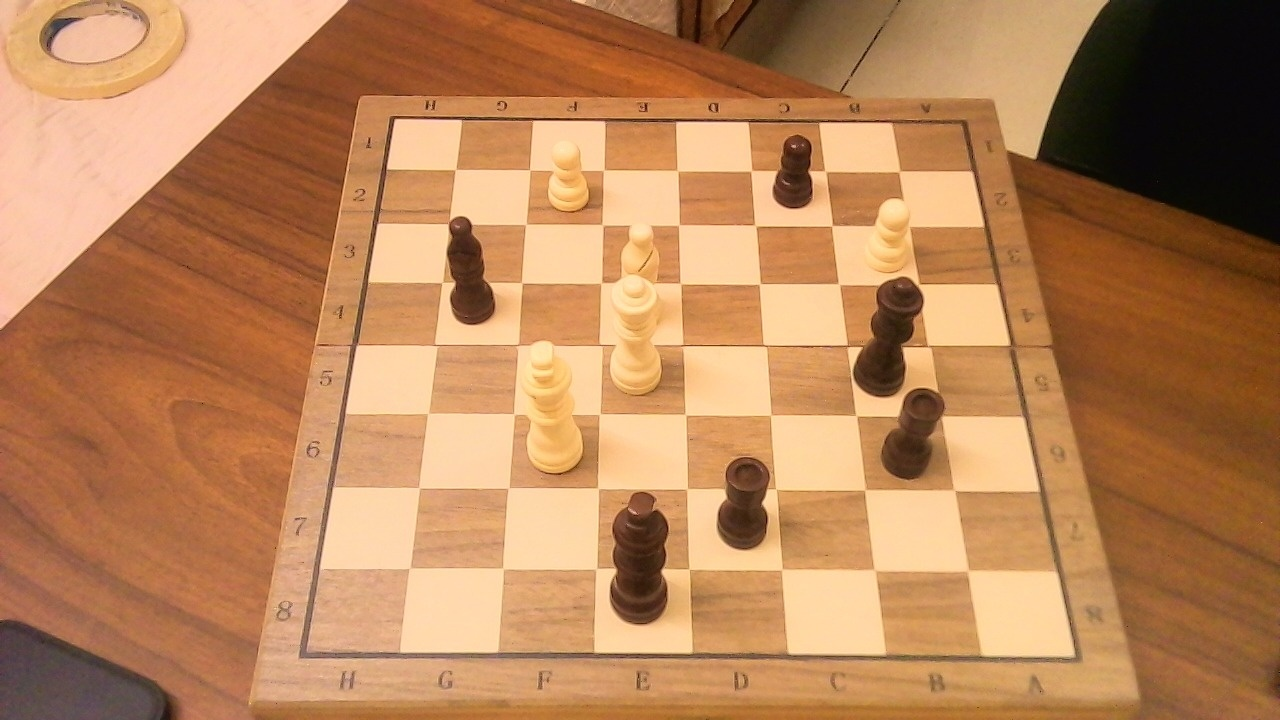B: (608, 212, 669, 316)
K: (516, 329, 592, 478)
P: (857, 189, 918, 276), (538, 131, 595, 215)
Q: (605, 263, 672, 399)
b: (442, 203, 509, 329)
k: (602, 475, 686, 629)
p: (765, 124, 825, 213)
q: (852, 262, 936, 401)
r: (875, 374, 955, 484), (708, 444, 781, 554)
